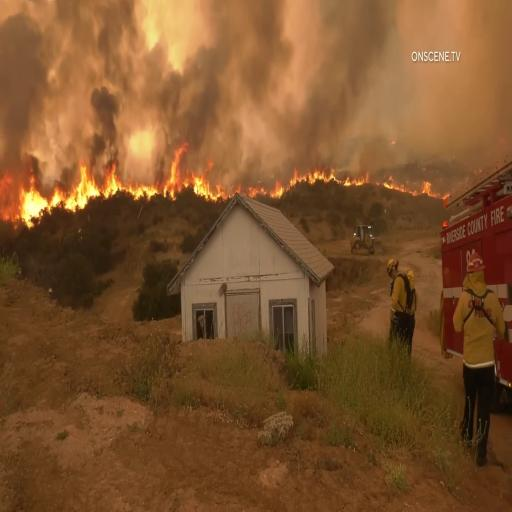fire: (260, 164, 373, 198), (384, 167, 447, 213), (12, 182, 56, 234), (160, 139, 190, 197), (68, 171, 100, 216), (195, 162, 218, 204), (105, 163, 122, 204)
smoke: (304, 18, 395, 152), (185, 20, 233, 148), (89, 83, 137, 150)
